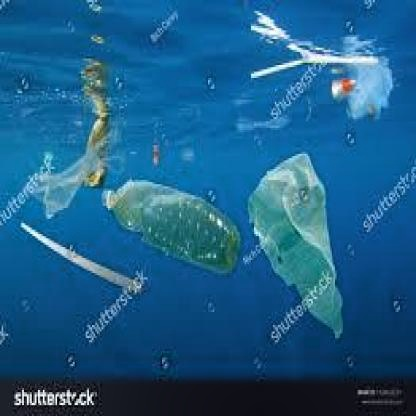pbag: (240, 152, 368, 348), (16, 143, 108, 219), (326, 50, 402, 128)
pbottle: (100, 169, 248, 277)
